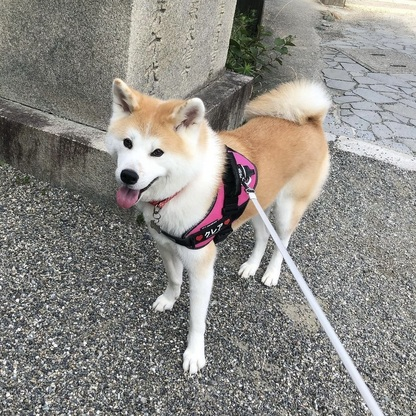akita: (95, 56, 347, 383)
